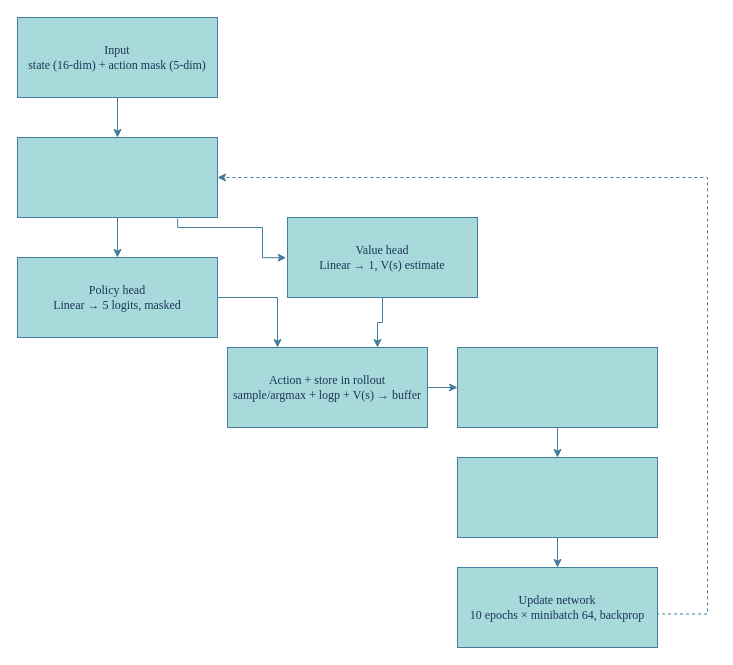
Some shapes in this 733 by 665 pixel diagram are drawn without their labels. Each missing label, with the centre of its shape:
"Clipped surrogate loss ratio × advantage, clipped to ±20%" goes at [557,497].
"Compute advantage GAE: TD-error + γλ·future, normalized" goes at [557,387].
"Shared MLP body Linear 128 becomes Tanh, ×2 layers" goes at [117,177].
